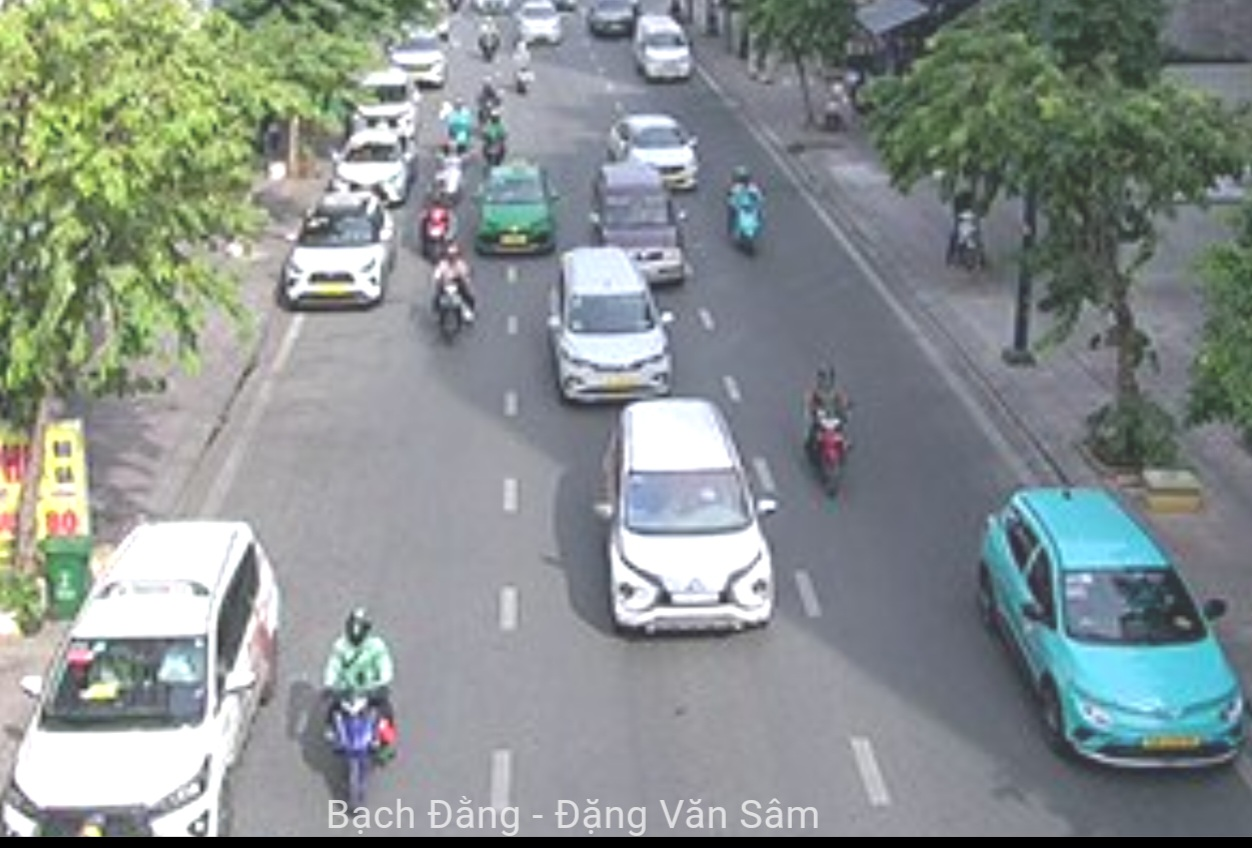car: (8, 523, 288, 840), (978, 485, 1248, 778), (598, 403, 783, 630), (549, 250, 674, 405), (282, 191, 394, 309), (594, 166, 686, 277), (474, 166, 557, 257), (608, 112, 703, 190), (331, 129, 418, 202), (384, 31, 457, 92), (351, 74, 422, 133), (635, 15, 695, 83), (510, 2, 564, 44)
